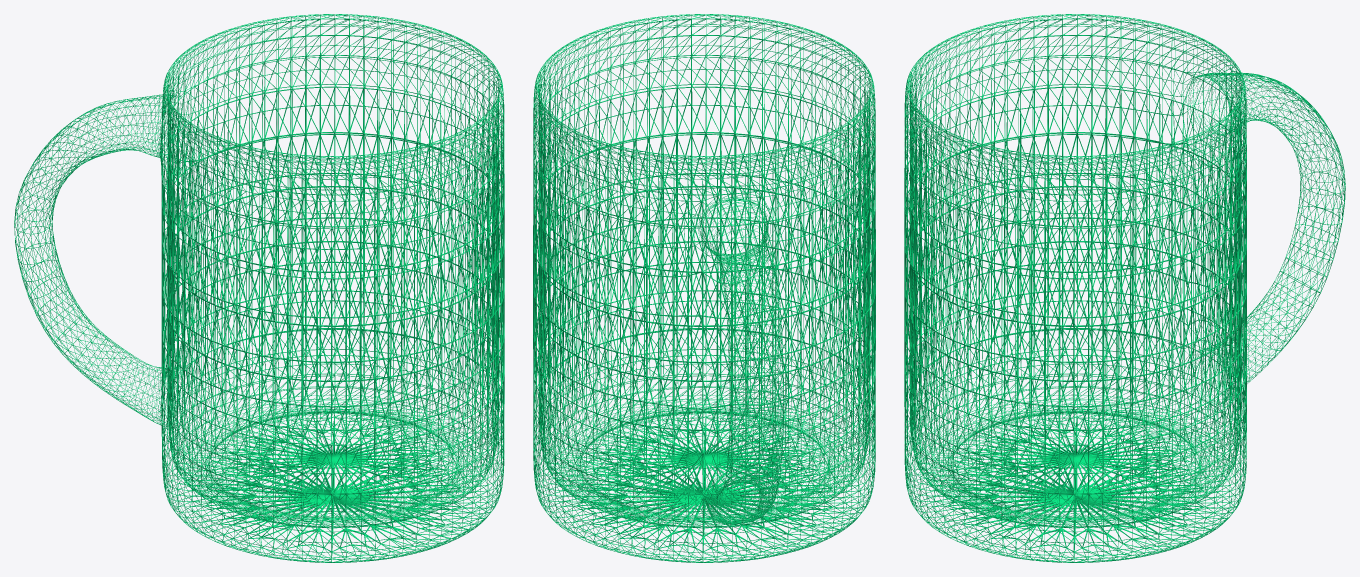
File: coffee.gltf
3 views of the same model, side by side, from view 1: azimuth 30°, elevation 25°; view 2: azimuth 150°, elevation 25°; view 3: azimuth 270°, elevation 25° (orthographic).
Visible parts, largest first — view 1: Cylinder.002_Material.004_0; view 2: Cylinder.002_Material.004_0; view 3: Cylinder.002_Material.004_0.
Part boxes in pixels (box(x1,y1,x2,y2)): Cylinder.002_Material.004_0: box(14, 14, 504, 562); Cylinder.002_Material.004_0: box(533, 14, 875, 562); Cylinder.002_Material.004_0: box(904, 14, 1345, 562).
Size of the model in its own units: 1.75 by 2 by 1.94.
